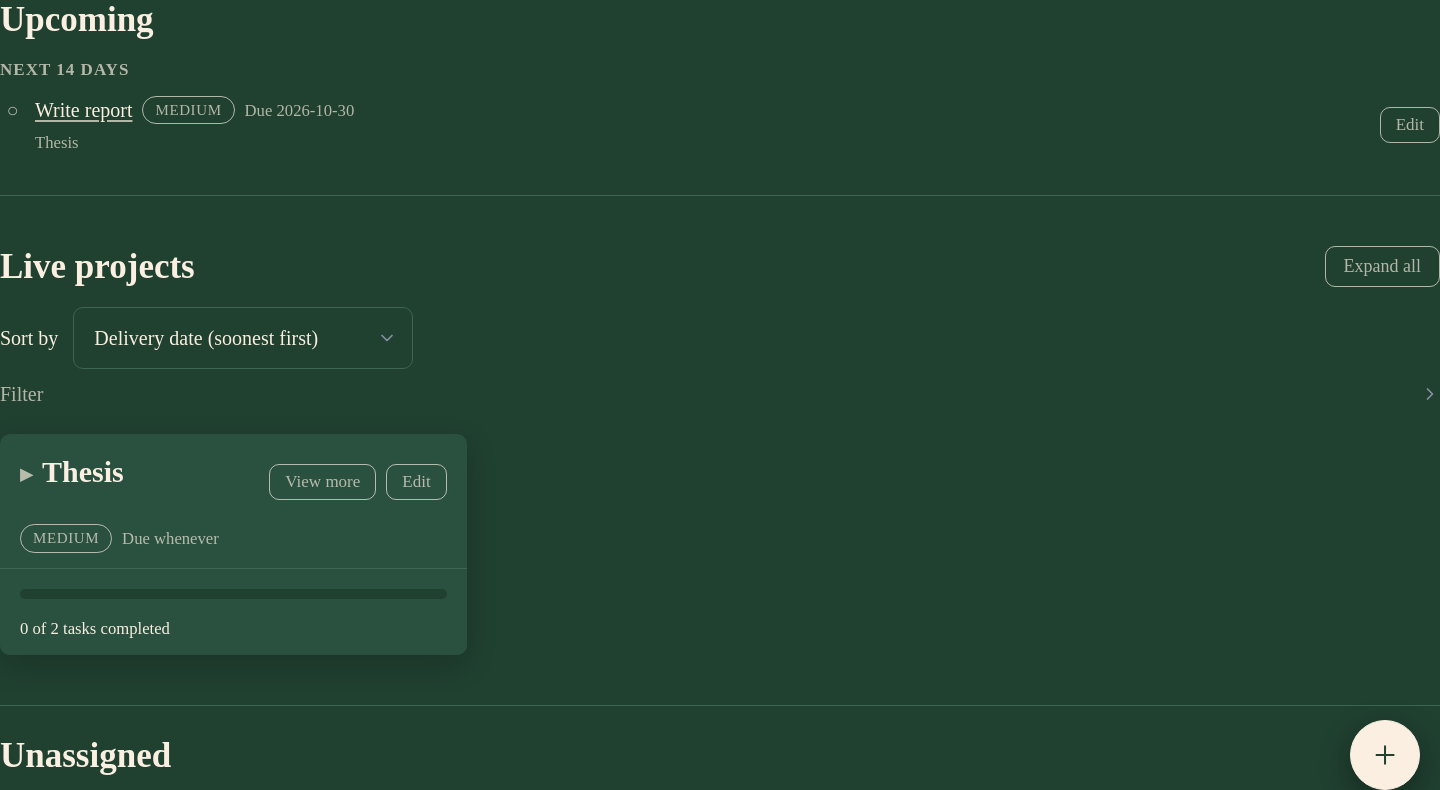
Test case: Dashboard editing a task › lists upcoming tasks in the panel, where they can be ticked off or edited
Check: the elements with class "task-name" read "Write report", in this order, box [35, 95, 132, 125]
Click the button with aria-label "Edit task Write report". click: (1410, 125)
box: [1380, 108, 1439, 143]
(page scrolled)
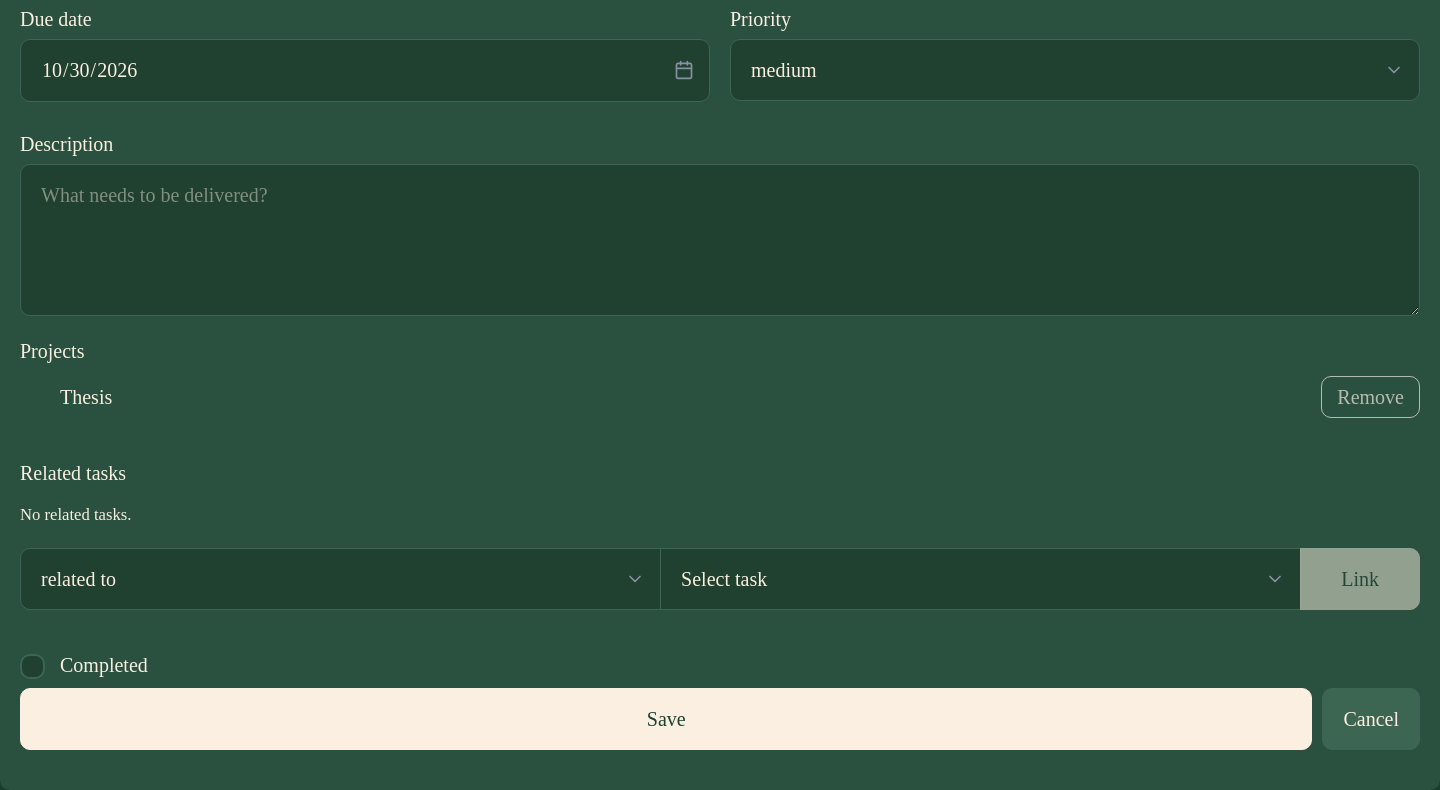
Click the button "Cancel". click: (1371, 718)
box: [1322, 688, 1420, 750]
(page scrolled)
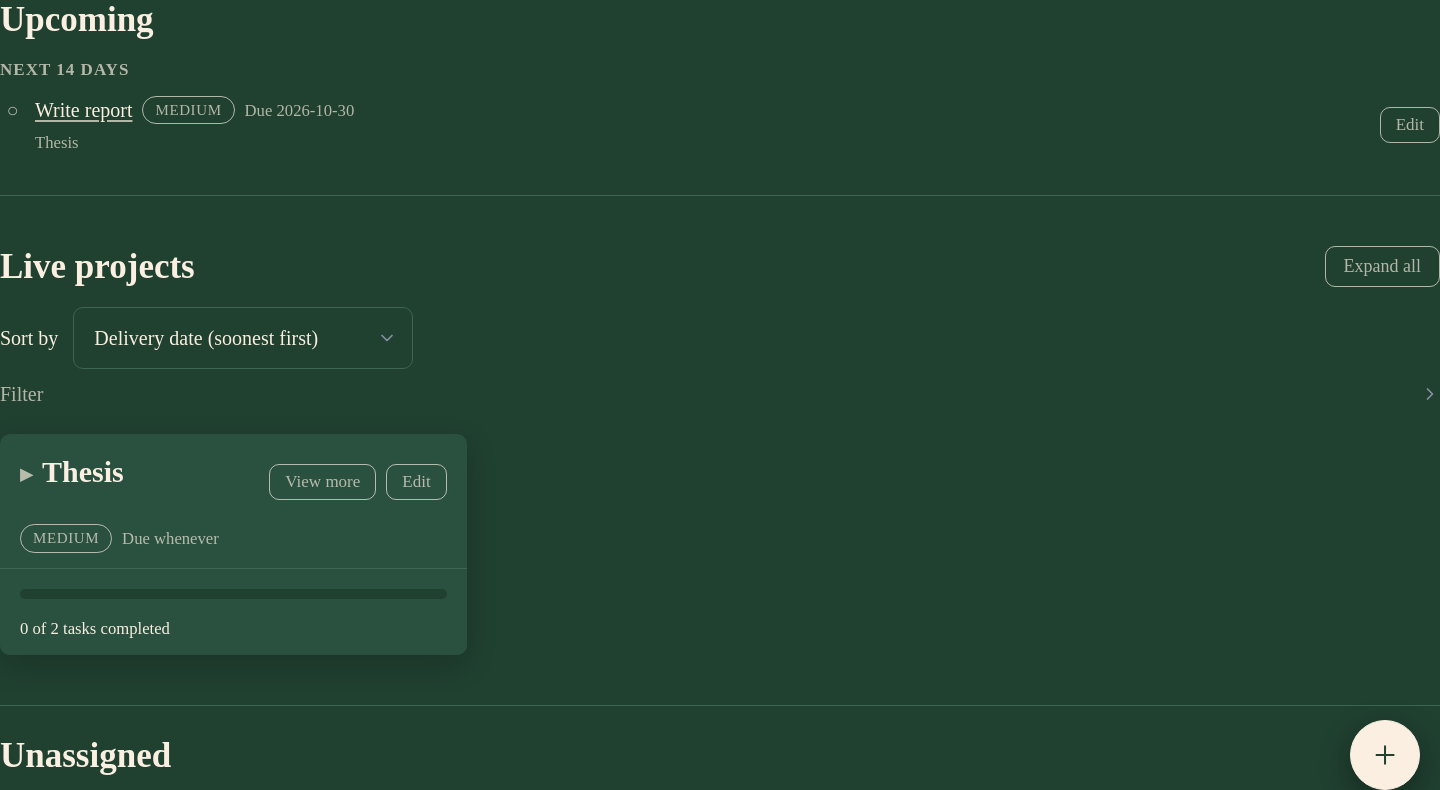
Click the button named "Done: Write report". click: (12, 110)
box: [0, 95, 25, 125]
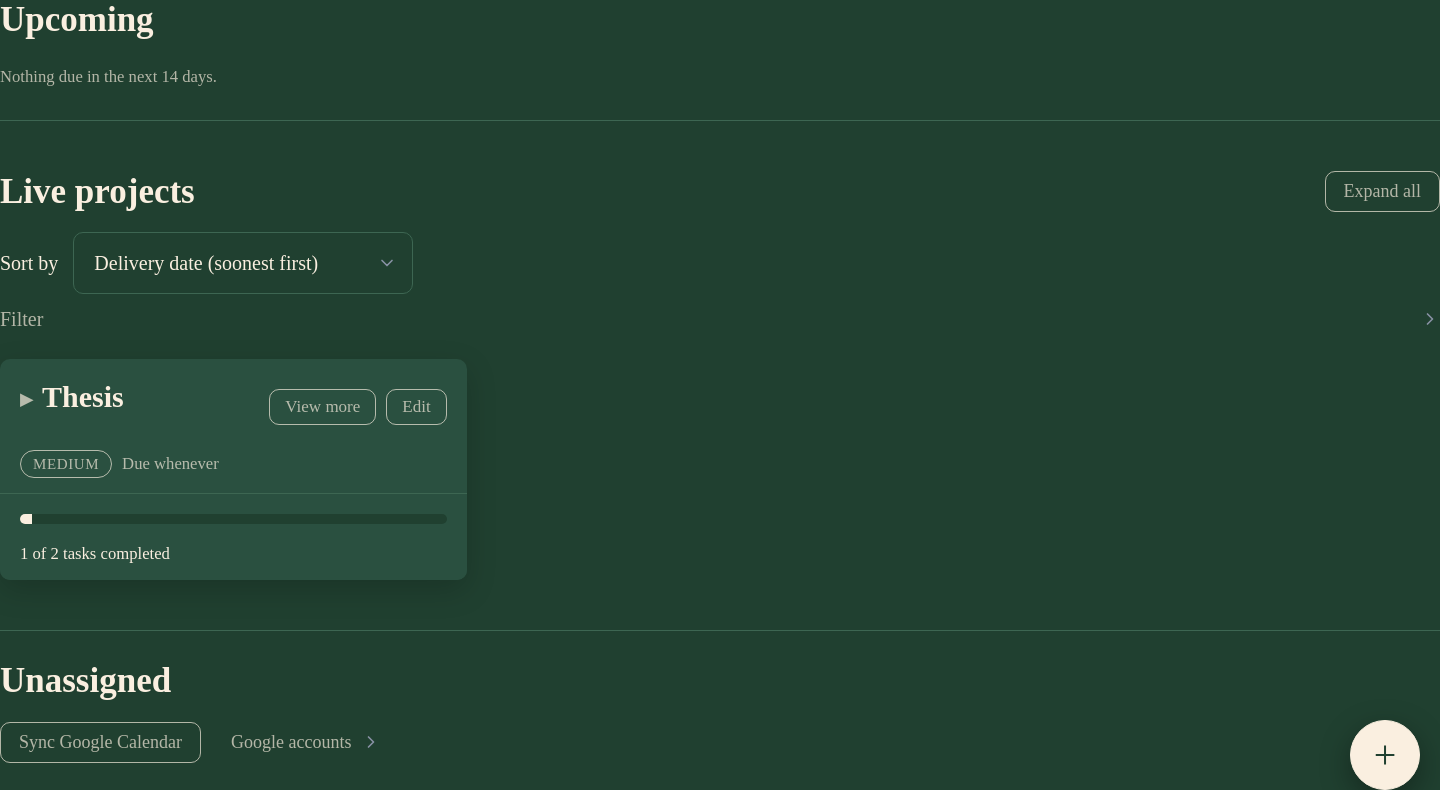
Check: the element with class "upcoming" shows "Nothing due in the next 14 days.", box [0, 67, 217, 86]
